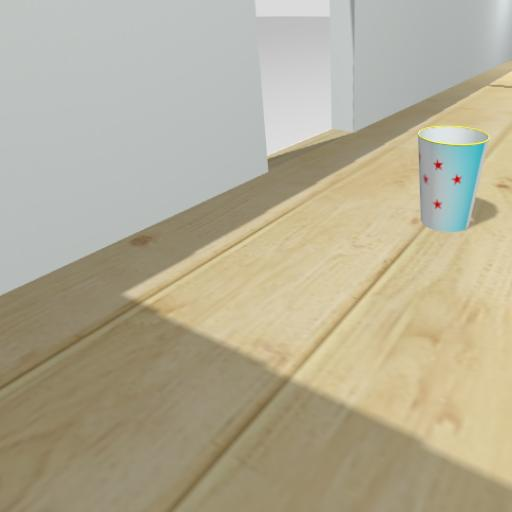Trash: (405, 93, 495, 250)
